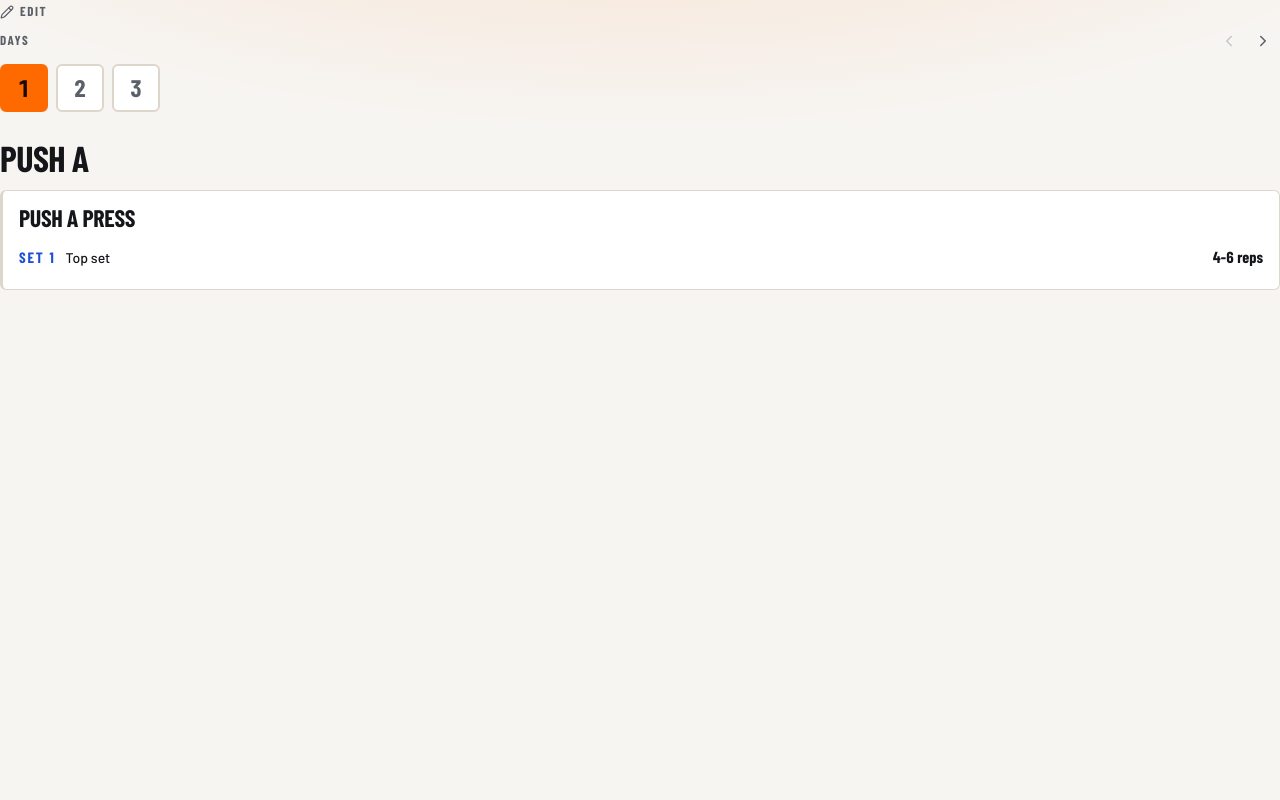
RoutineDays › offers the new day from the end of the rack, in edit mode only
Expected: the button "Add day" is not shown
Click the button "Edit": (24, 12) [0,0,47,24]
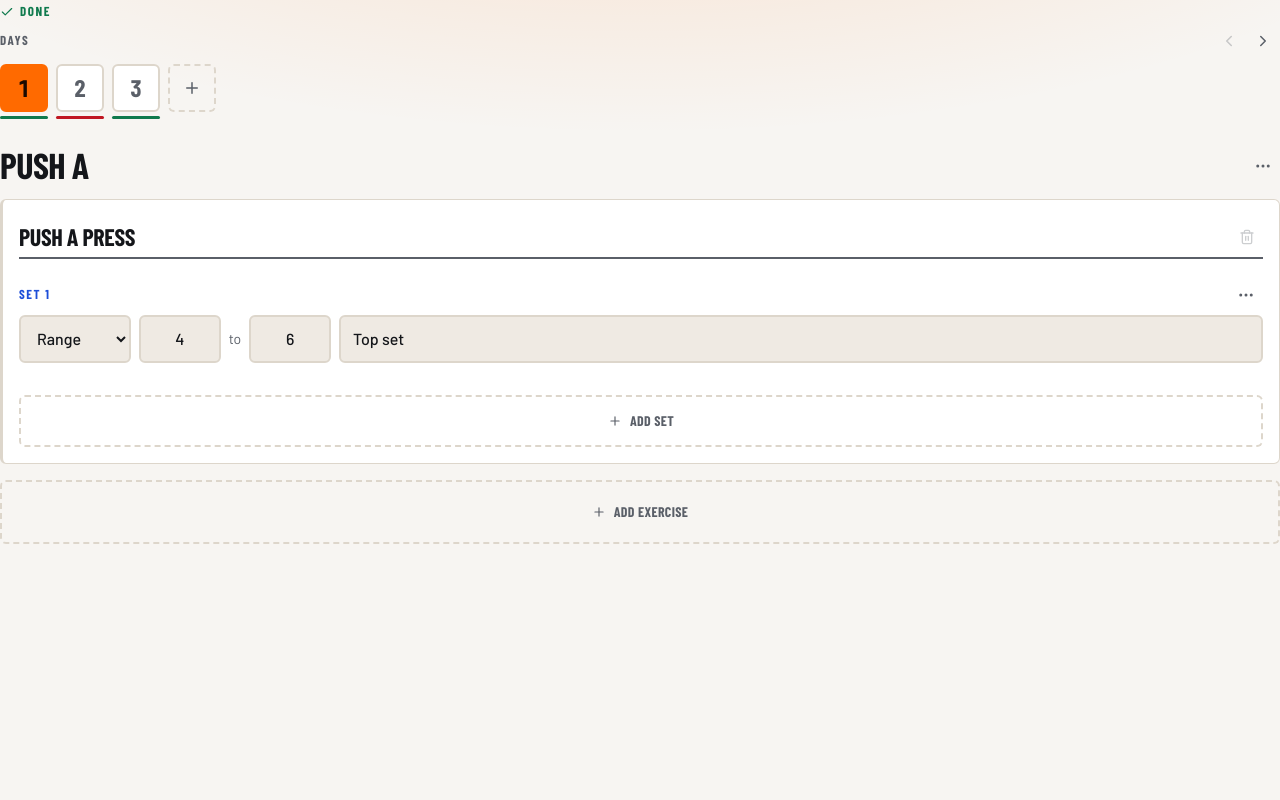
Click the button named "Add day": (192, 88) [168,64,216,112]
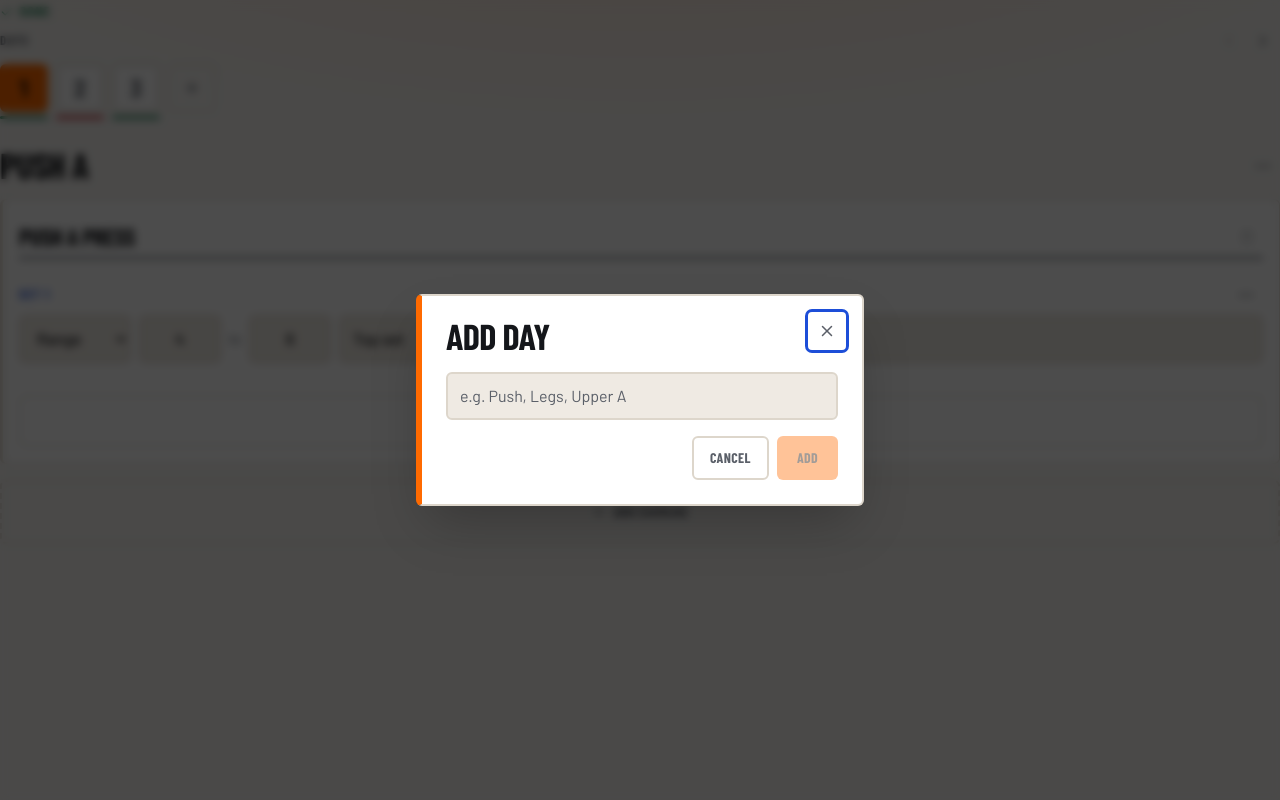
Now the field named "Day name" is empty, box [446,372,838,420]
Now the button "Add" is shown, box [777,436,838,480]
